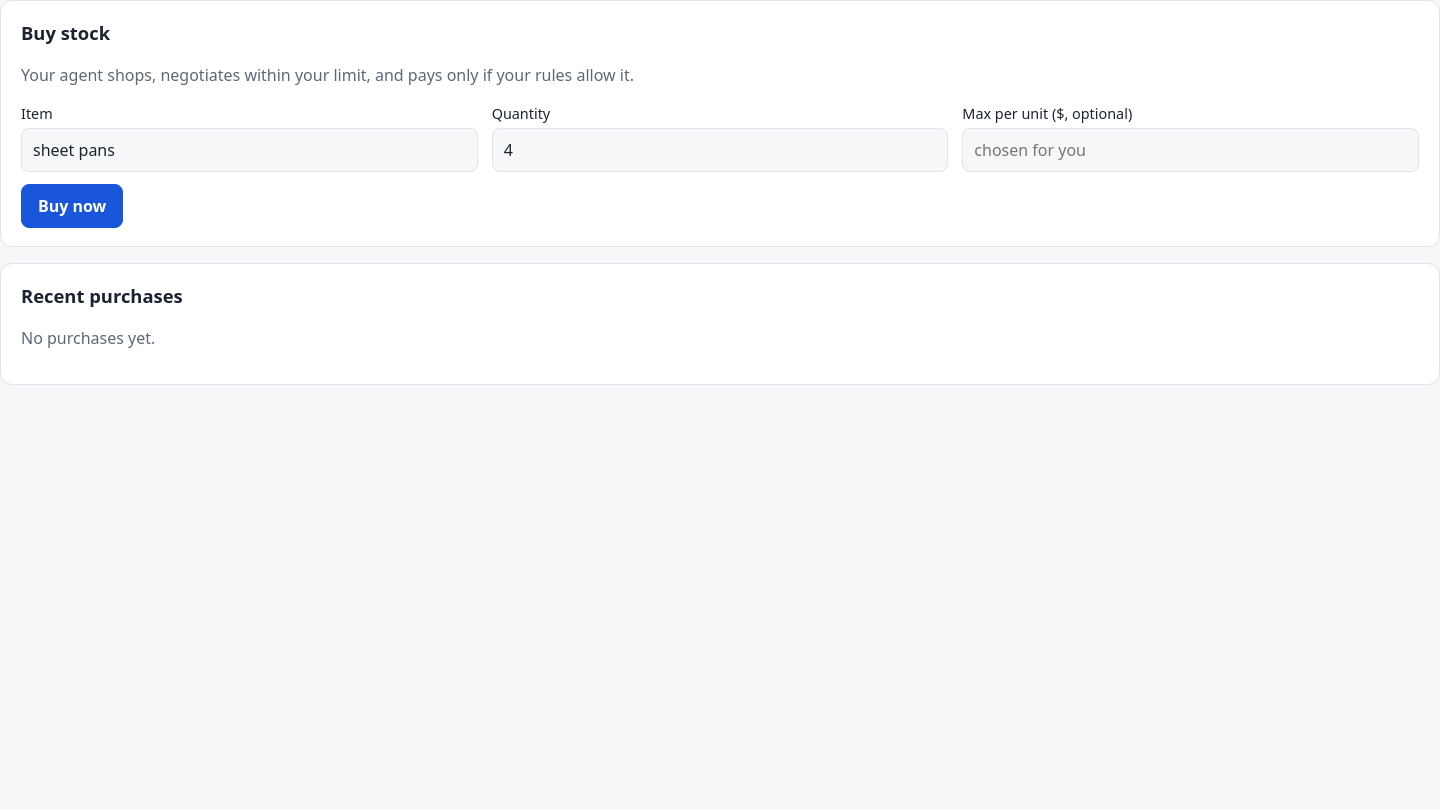
Scenario: PurchaseScreen › shows payment actions under a paid order and updates the screen from PayPal's answer
What coordinates should you click on to do the following:
click the button "Buy now"
I would click on:
 (72, 206)
Its box is [21,184,123,228].
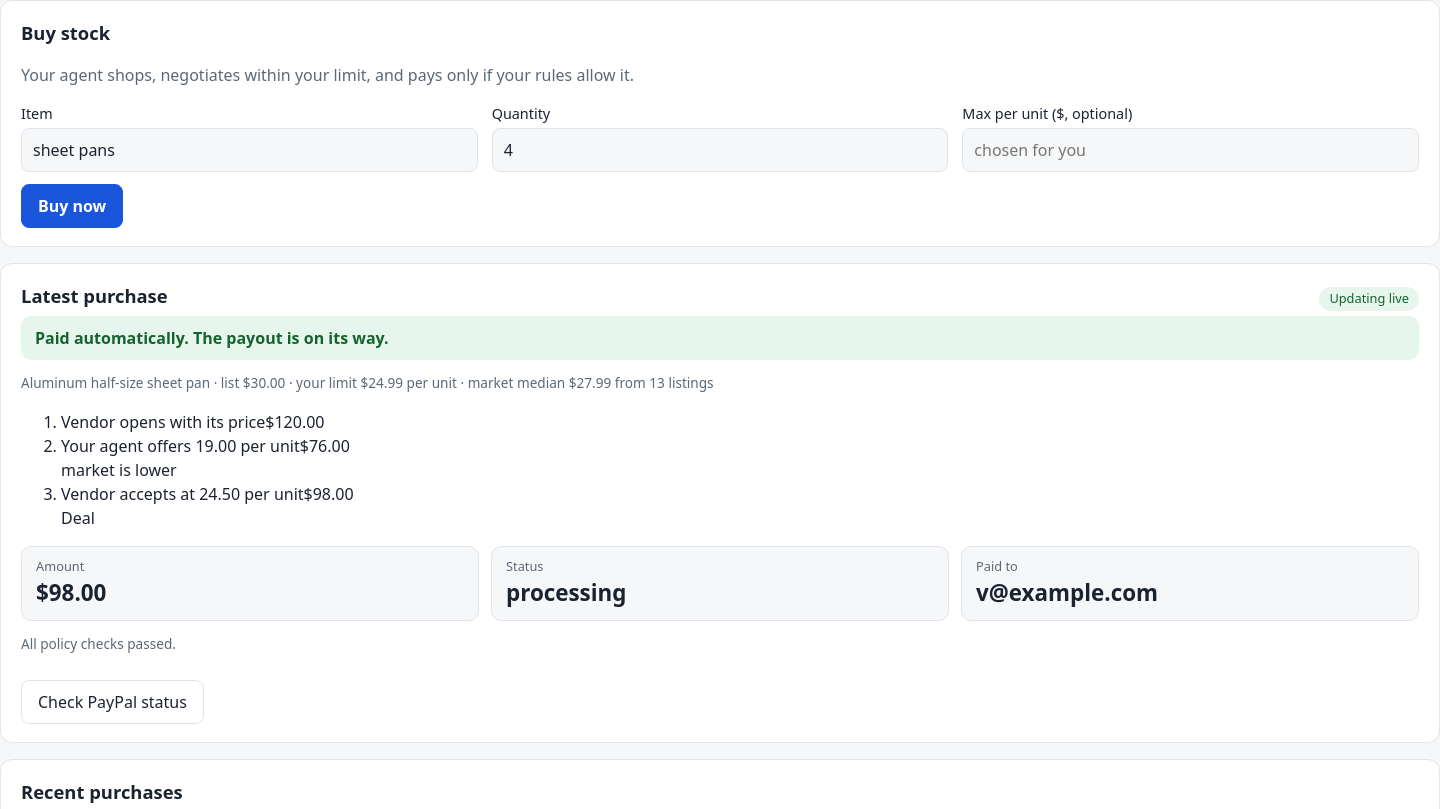
What coordinates should you click on to do the following:
click the button "Check PayPal status"
I would click on:
 (112, 702)
Its box is [21,680,204,724].
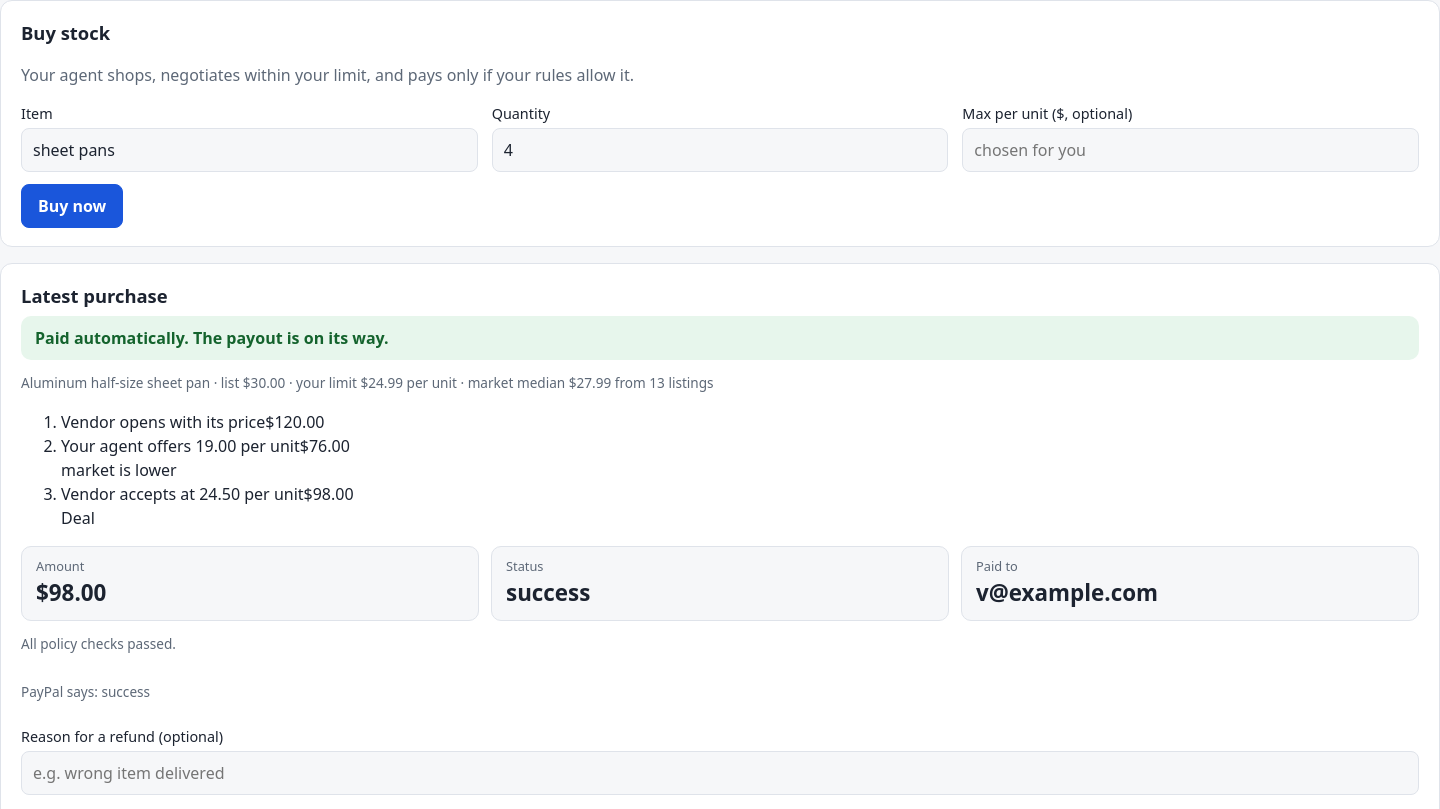
Now the text "PayPal says: success" is shown, box [21,682,150,701]
